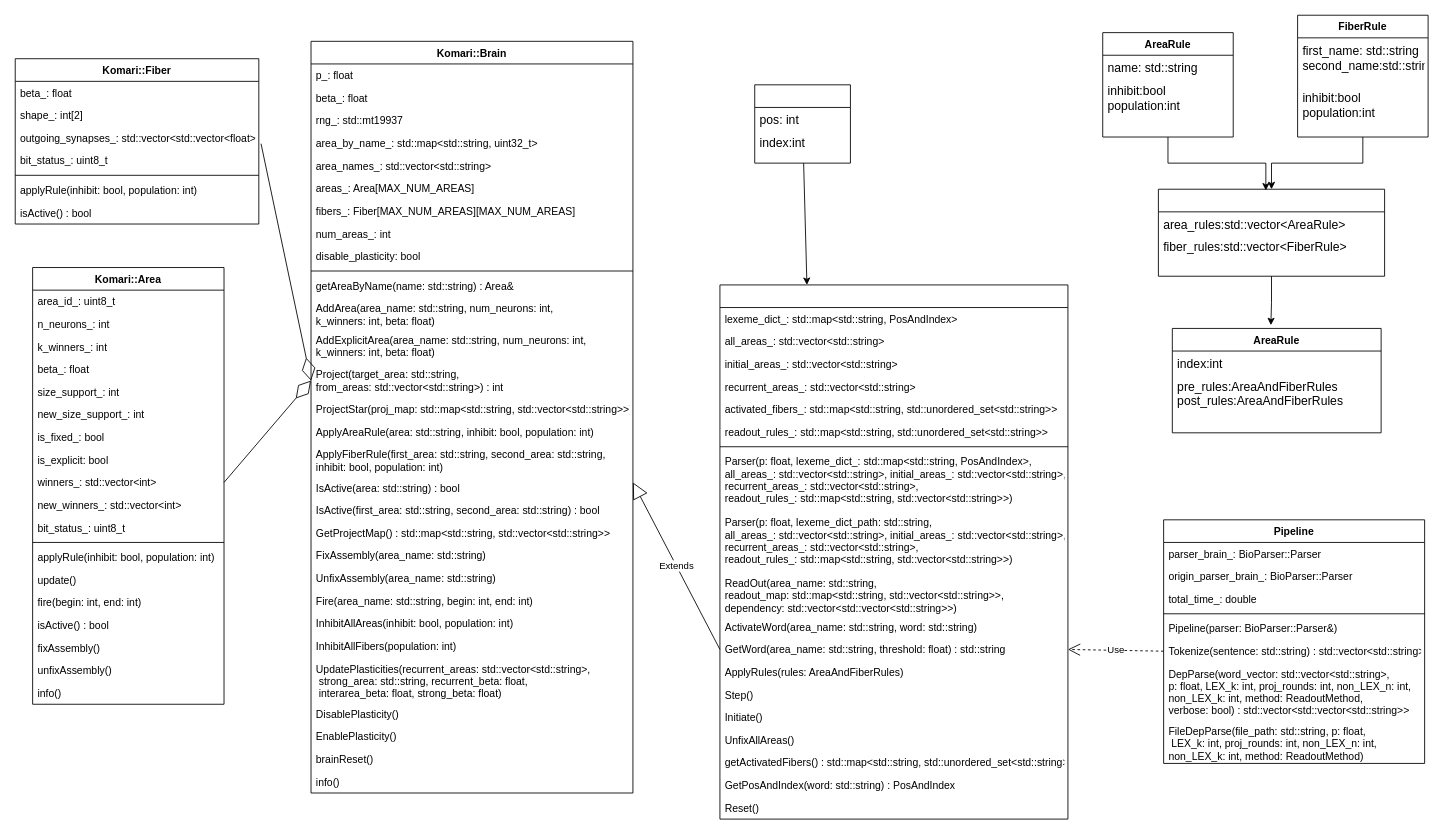
Some shapes in this 1449 by 837 pixel diagram are drawn without their labels. The box of each missing label's shape, as (x1, y1, x2, y2) in pixels:
AreaAndFiberRules: (1158, 188, 1385, 276)
BioParser::Parser: (719, 284, 1068, 819)
PosAndIndex: (754, 84, 850, 163)
